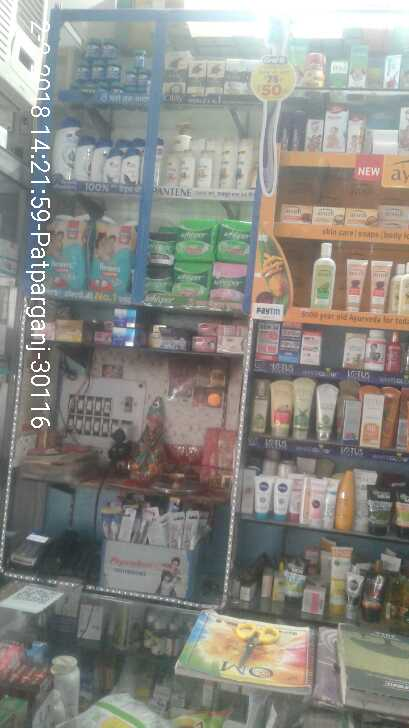beauty: (51, 115, 76, 180), (181, 58, 206, 96), (215, 143, 234, 186), (122, 149, 141, 188), (75, 135, 91, 180), (235, 143, 252, 185), (101, 149, 120, 185), (176, 149, 194, 185), (228, 53, 245, 91), (207, 60, 225, 93), (196, 152, 214, 183)
pharmacy: (42, 211, 87, 289), (89, 218, 132, 290), (174, 217, 215, 261), (216, 215, 249, 265), (211, 263, 247, 305), (172, 264, 207, 297), (104, 58, 125, 81), (82, 35, 102, 59), (89, 59, 107, 80), (131, 44, 147, 66), (137, 67, 150, 91), (98, 40, 117, 54), (76, 61, 87, 83), (124, 68, 135, 84)
